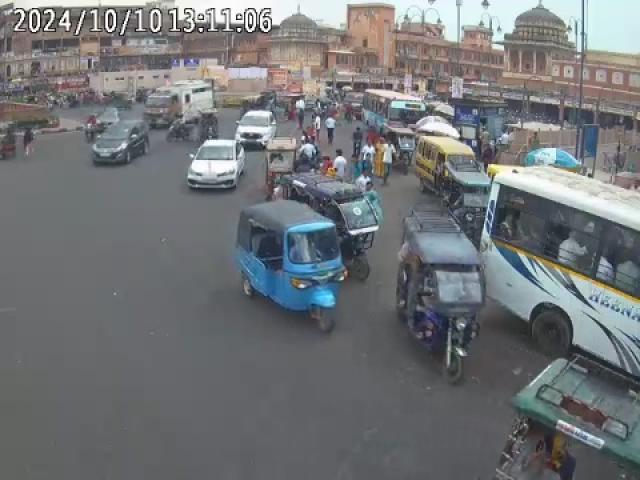auto: (490, 350, 638, 480), (236, 204, 350, 336), (394, 211, 482, 382), (296, 174, 382, 280), (413, 135, 490, 213), (264, 136, 295, 194)
bus: (481, 165, 640, 375), (363, 89, 428, 137)
car: (185, 138, 248, 192), (91, 123, 149, 166), (236, 111, 280, 149)
person: (376, 138, 393, 186), (595, 254, 615, 286), (329, 149, 348, 180), (23, 128, 36, 157)
truck: (144, 84, 218, 128)
